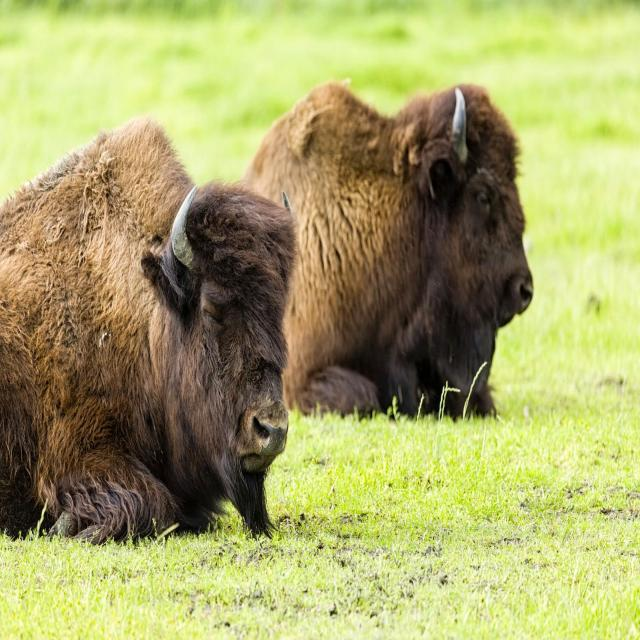bison: (0, 119, 296, 543), (244, 83, 533, 417)
